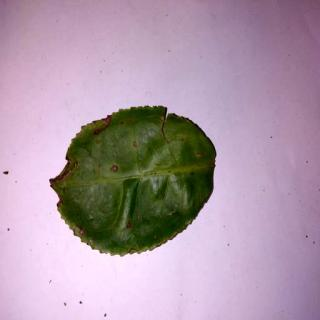Bird Eye Spot: (52, 107, 217, 256)
